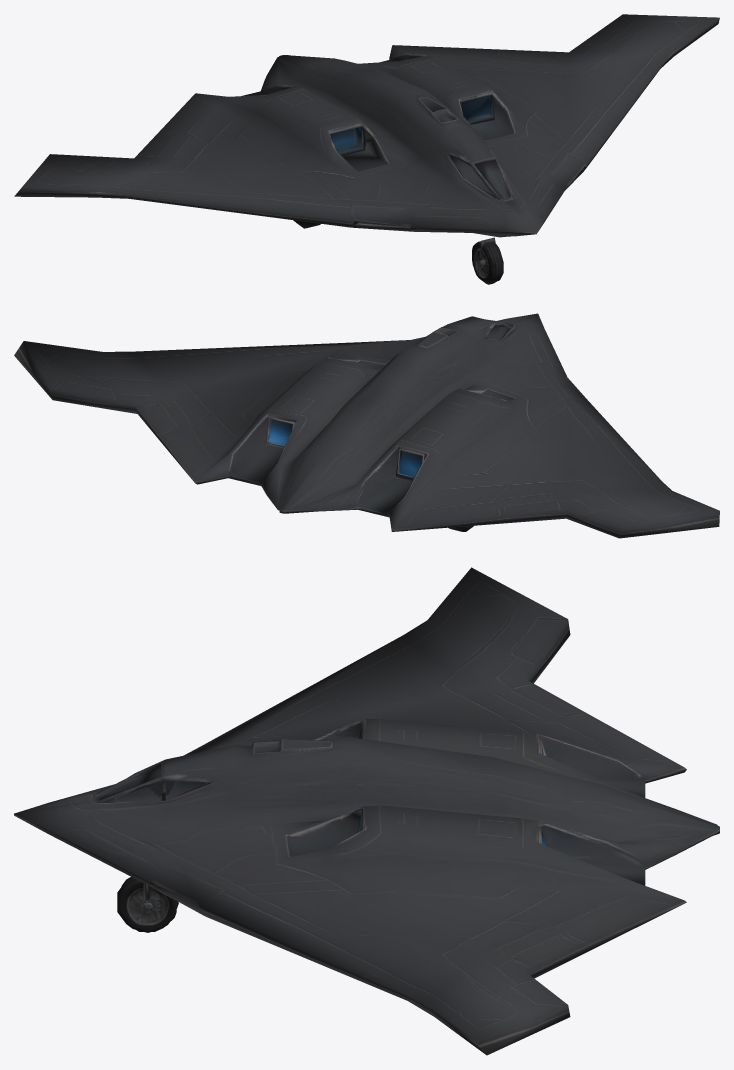
The model's file is original_glb.glb.
3 renders of one model, top to bottom at view 1: azimuth 30°, elevation 25°; view 2: azimuth 150°, elevation 25°; view 3: azimuth 270°, elevation 25°, orthographic. The views are drawn at different scales.
Parts seen in each view (by area): view 1: Midnight Wraith VTOL; view 2: Midnight Wraith VTOL; view 3: Midnight Wraith VTOL.
Part boxes in pixels (x1,y1,x2,y2): Midnight Wraith VTOL: (14,14,719,284); Midnight Wraith VTOL: (14,313,719,538); Midnight Wraith VTOL: (14,567,719,1055).
Size of the model in its own units: 0.998 by 0.1855 by 0.627.
1 material, 1 textured.
